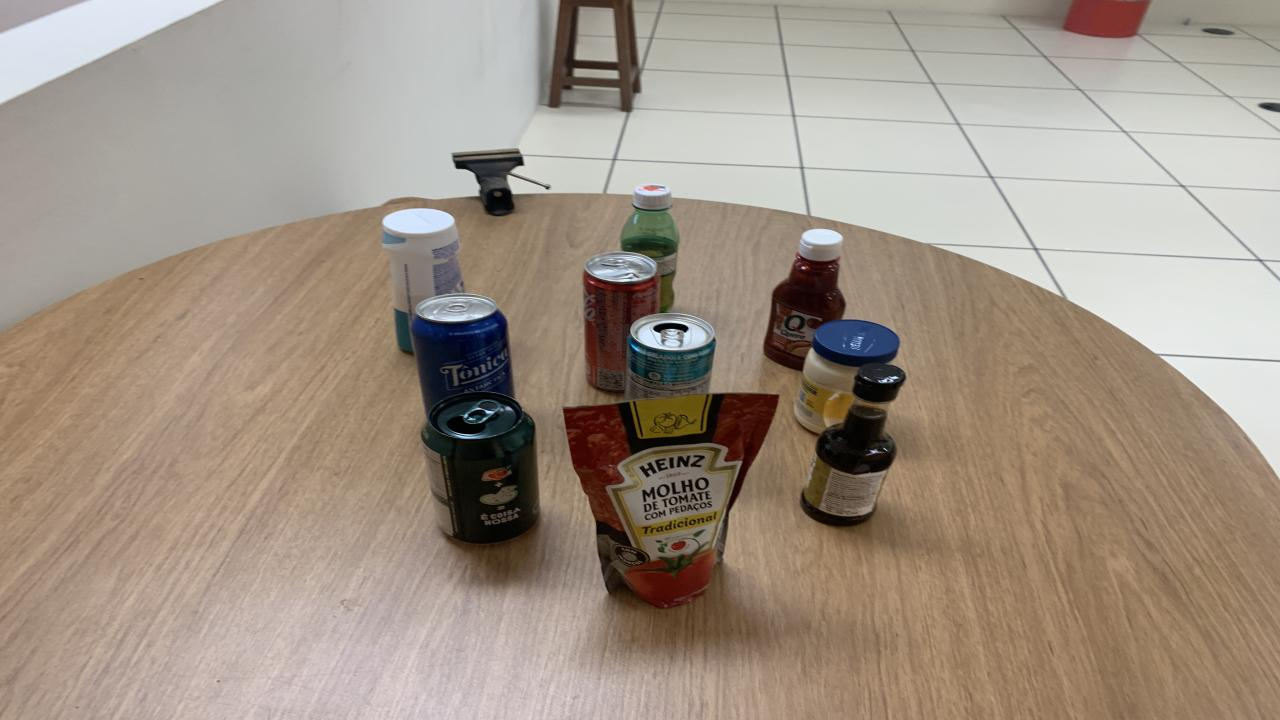Cleaner-Cleanup_Items: (382, 208, 465, 352)
Coke-Drinks: (582, 251, 660, 392)
English_Sauce-Pantry_Items: (800, 362, 905, 525)
Guarana-Drinks: (620, 184, 680, 313)
Guarana_Can-Drinks: (420, 392, 540, 544)
Ketchup-Pantry_Items: (762, 229, 845, 369)
Mayonnaise-Pantry_Items: (795, 319, 900, 433)
Tea-Drinks: (625, 313, 715, 399)
Tomato_Sauce-Pantry_Items: (562, 394, 778, 608)
Tonic-Drinks: (410, 294, 515, 412)
